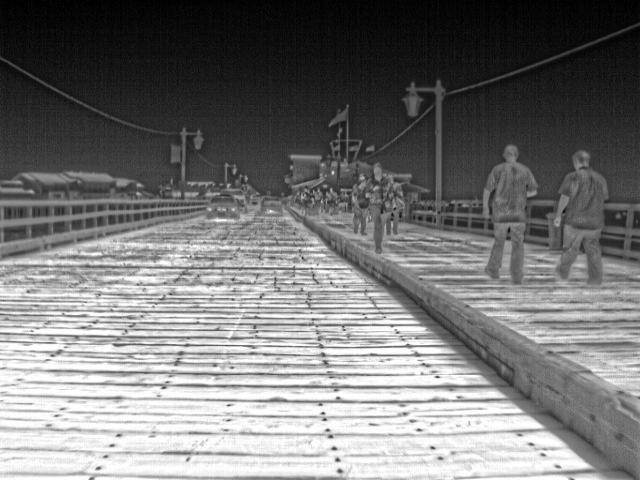car: (206, 191, 239, 221), (221, 187, 250, 212), (259, 195, 283, 212)
person: (477, 143, 538, 286), (550, 149, 610, 282), (366, 161, 393, 254), (350, 174, 371, 232), (385, 174, 404, 232), (299, 184, 313, 216)
